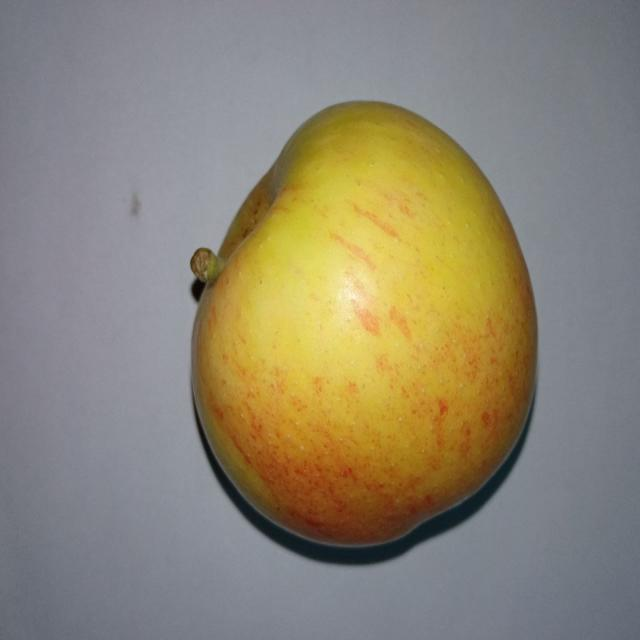fresh_apple: (186, 100, 534, 550)
